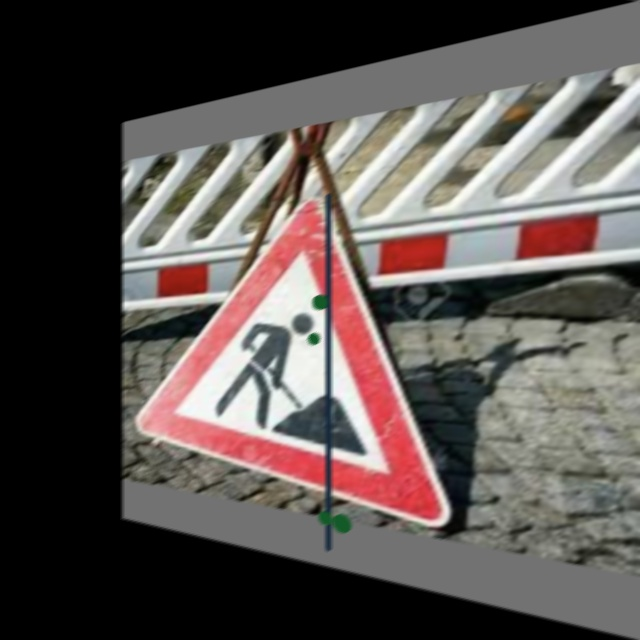Men_at_Work: (165, 192, 453, 530)
